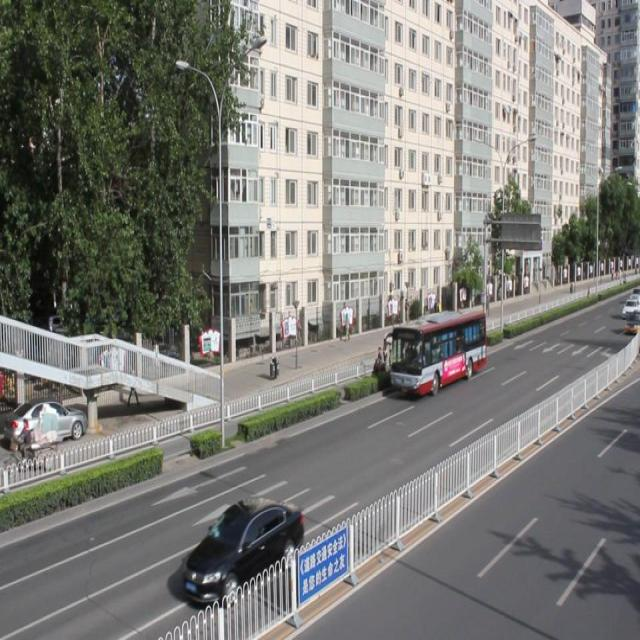car: (182, 496, 302, 605)
van: (390, 308, 484, 396)
